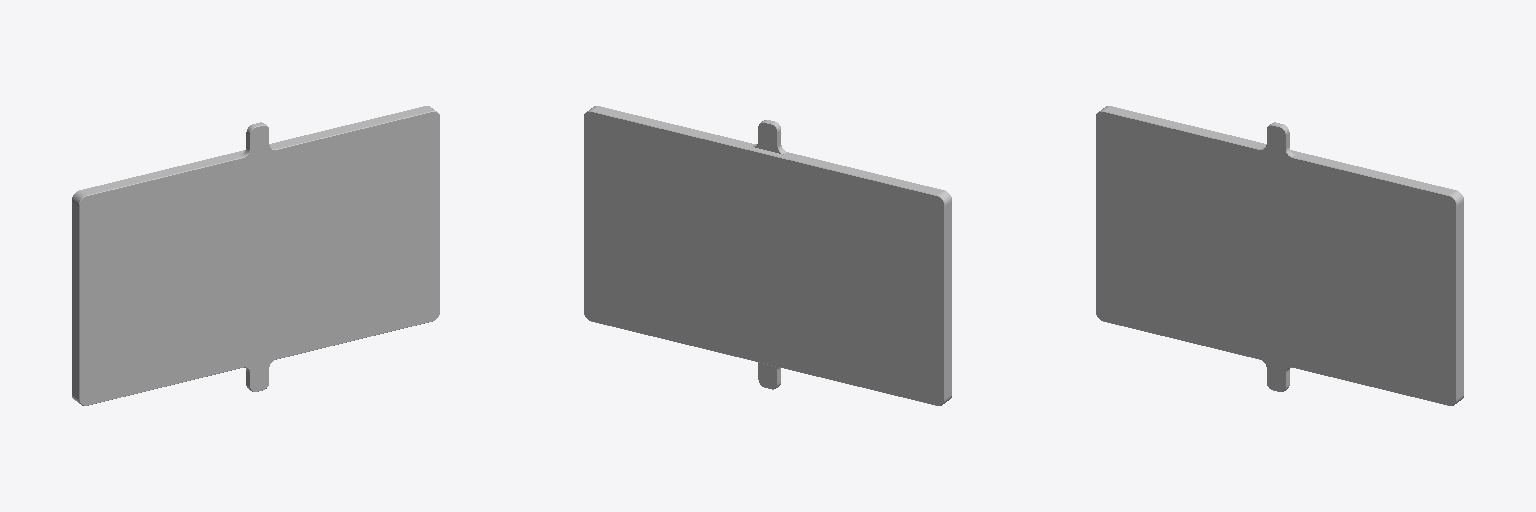
Rendered from table.obj.
3 views of the same model, side by side, from view 1: azimuth 30°, elevation 25°; view 2: azimuth 150°, elevation 25°; view 3: azimuth 330°, elevation 25° (orthographic).
Bounding box in the file's own units: 2.74 × 1.93 × 0.1.